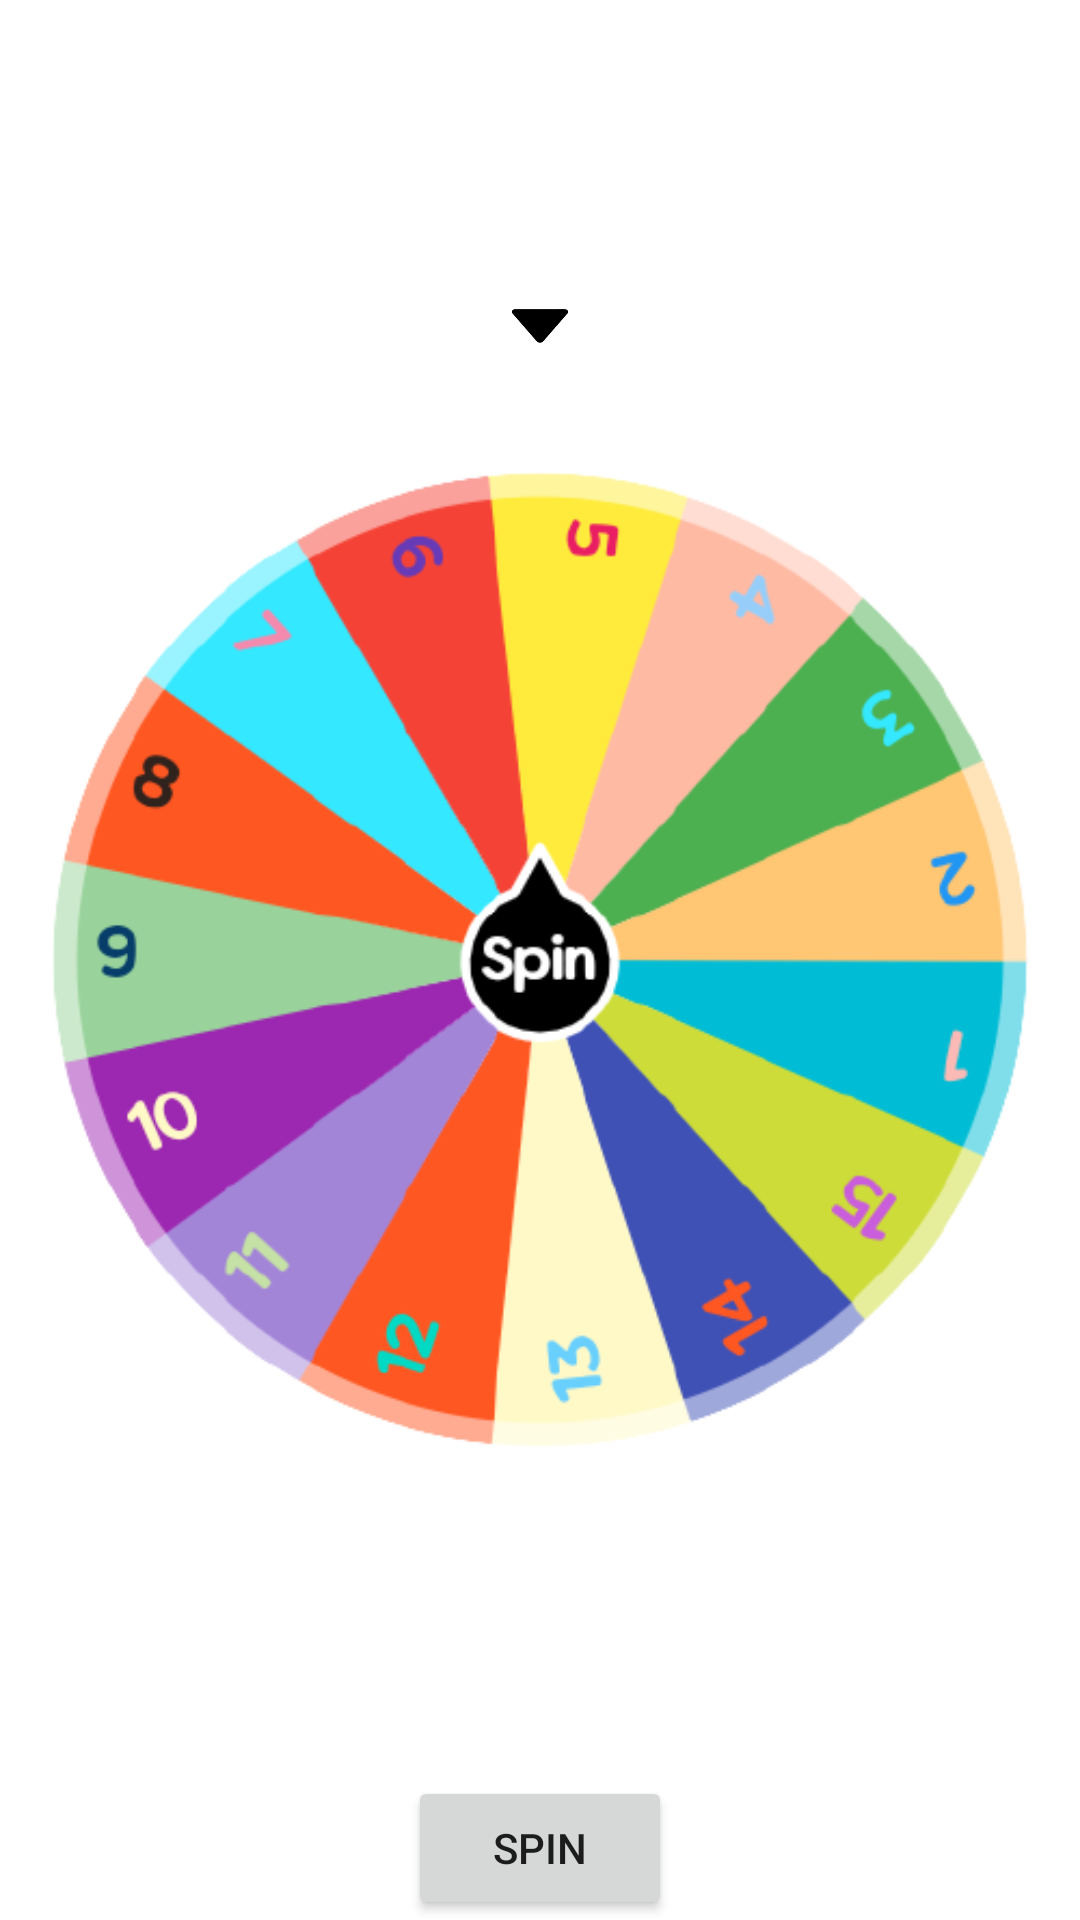

Where icons sit on this 1080x1920 app screen, as (x1,y1,x2,y2):
indicator: (512,309,568,343)
